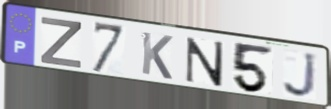5: (229, 40, 276, 94)
7: (91, 20, 128, 74)
J: (282, 51, 319, 100)
K: (139, 30, 174, 82)
N: (183, 36, 226, 89)
Z: (38, 15, 84, 71)
